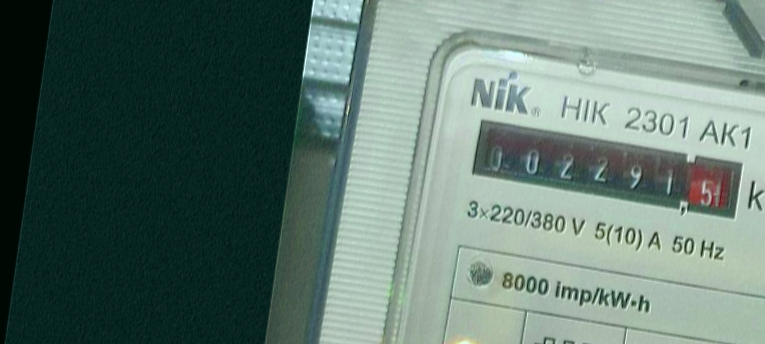0: (483, 140, 504, 171), (520, 145, 540, 176)
1: (657, 163, 676, 199)
2: (555, 150, 575, 181), (590, 153, 608, 183)
5: (694, 176, 715, 207)
9: (623, 159, 643, 191)
screen: (463, 113, 748, 226)
